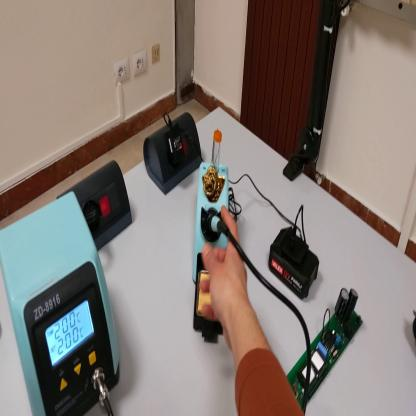electric screwdriver battery: (268, 228, 320, 300)
hand: (196, 203, 248, 323)
high voltage board: (286, 288, 364, 410)
socket: (58, 157, 135, 254), (142, 111, 202, 196)
welder base: (190, 127, 240, 347)
welder probe tip: (205, 212, 233, 232)
welder station: (2, 191, 122, 415)
